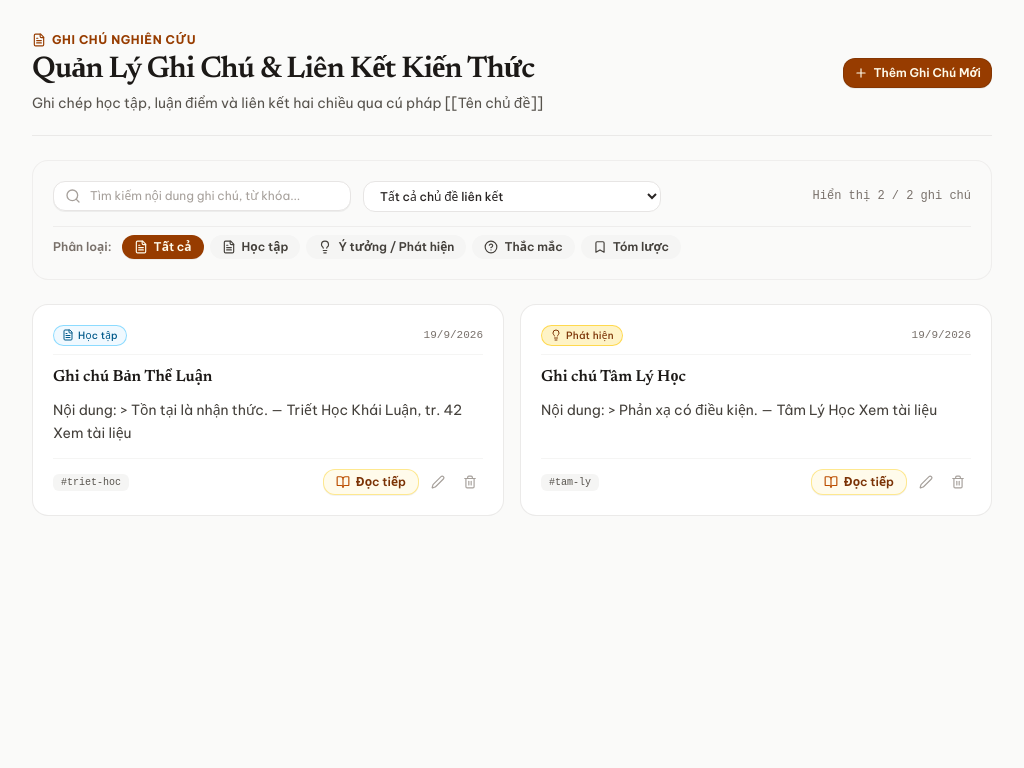
Test: Phase R3A.2: Note to Reader Deep-Link Wiring in Owners › 1. NotesManager wiring › 1.1. clicking archive citation inside NoteReaderModal in NotesManager opens UnifiedResearchReader with locator
# Open NoteReaderModal by clicking "Đọc tiếp" on note 1
Click the button with aria-label "Đọc tiếp ghi chú Ghi chú Bản Thể Luận". click: {"x": 371, "y": 482}
box: [323, 469, 419, 495]
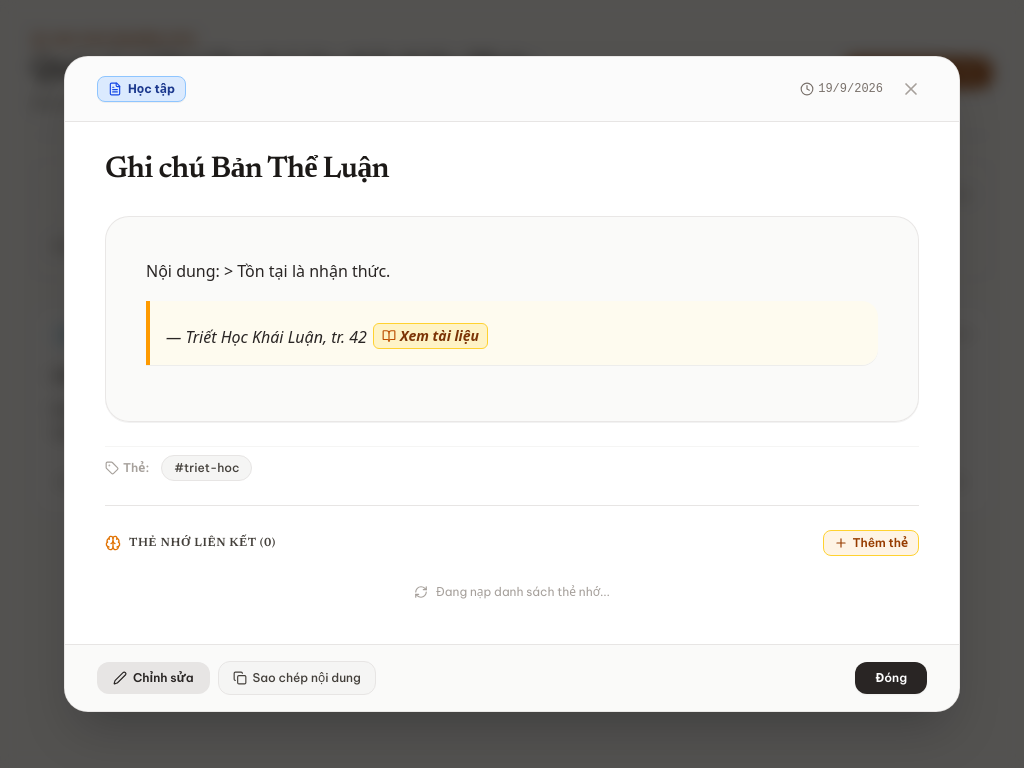
Check: the dialog named "Chi tiết ghi chú" is shown
# Click the archive citation link
Click the link "Xem tài liệu". click: {"x": 430, "y": 336}
box: [373, 323, 488, 349]
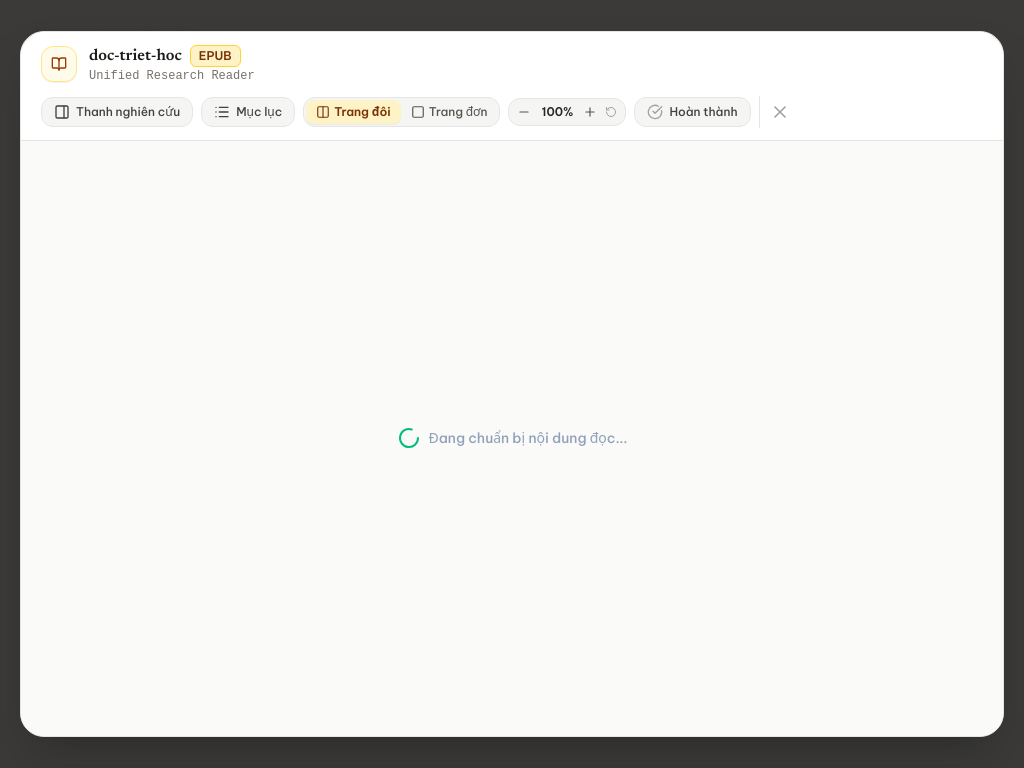
Check: the dialog "doc-triet-hoc" is shown
Check: the heading "doc-triet-hoc" is shown, box [89, 44, 182, 68]
# Test closing reader
Click the button named "Đóng". click: {"x": 780, "y": 112}
box: [764, 96, 796, 128]
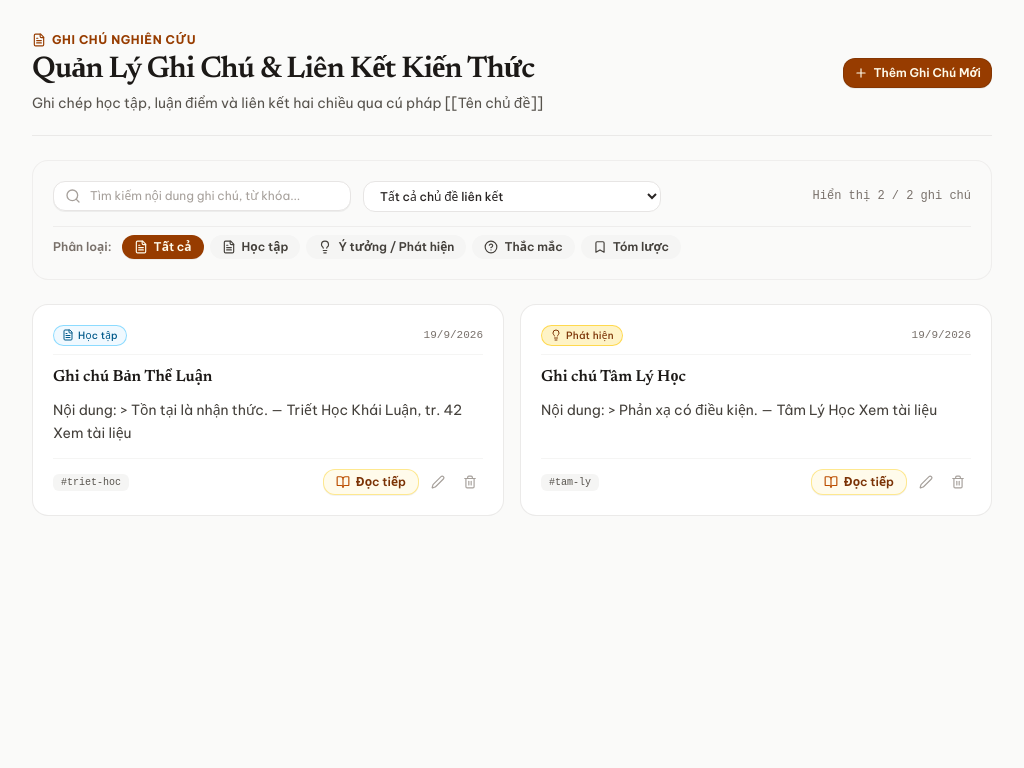
Check: the heading "doc-triet-hoc" is gone
